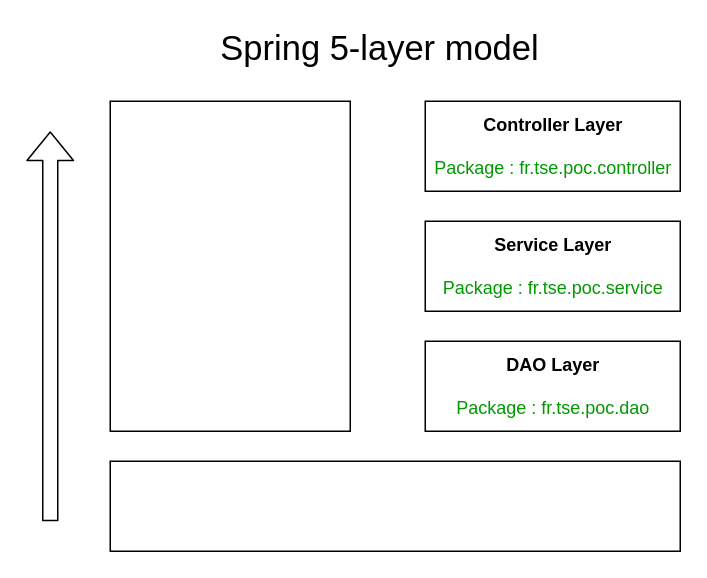
This 707x578 diagram has some shape labels left out. The box of each missing label's shape, as (x1, y1, x2, y2) in pixels:
Business classes Package : fr.tse. poc. domain: (109, 100, 350, 431)
Persistence Layer MySQL: (109, 460, 680, 551)
